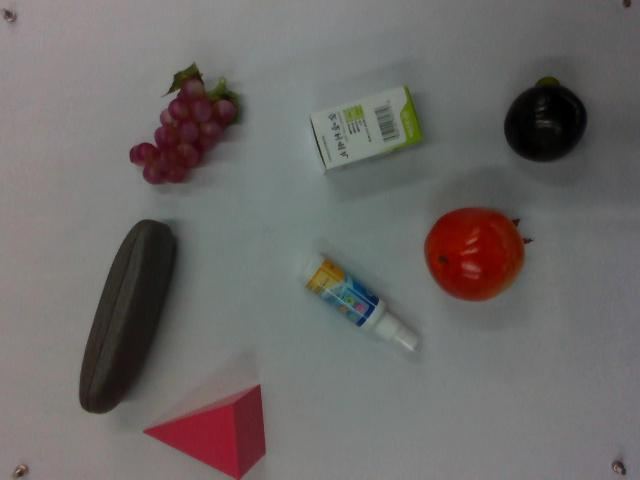carton: (303, 81, 426, 181)
detergent: (294, 249, 426, 358)
glassescase: (79, 216, 183, 415)
grape: (128, 65, 242, 189)
mangosteen: (502, 72, 589, 169)
pomegranate: (422, 205, 535, 303)
pyramid: (139, 387, 282, 479)
